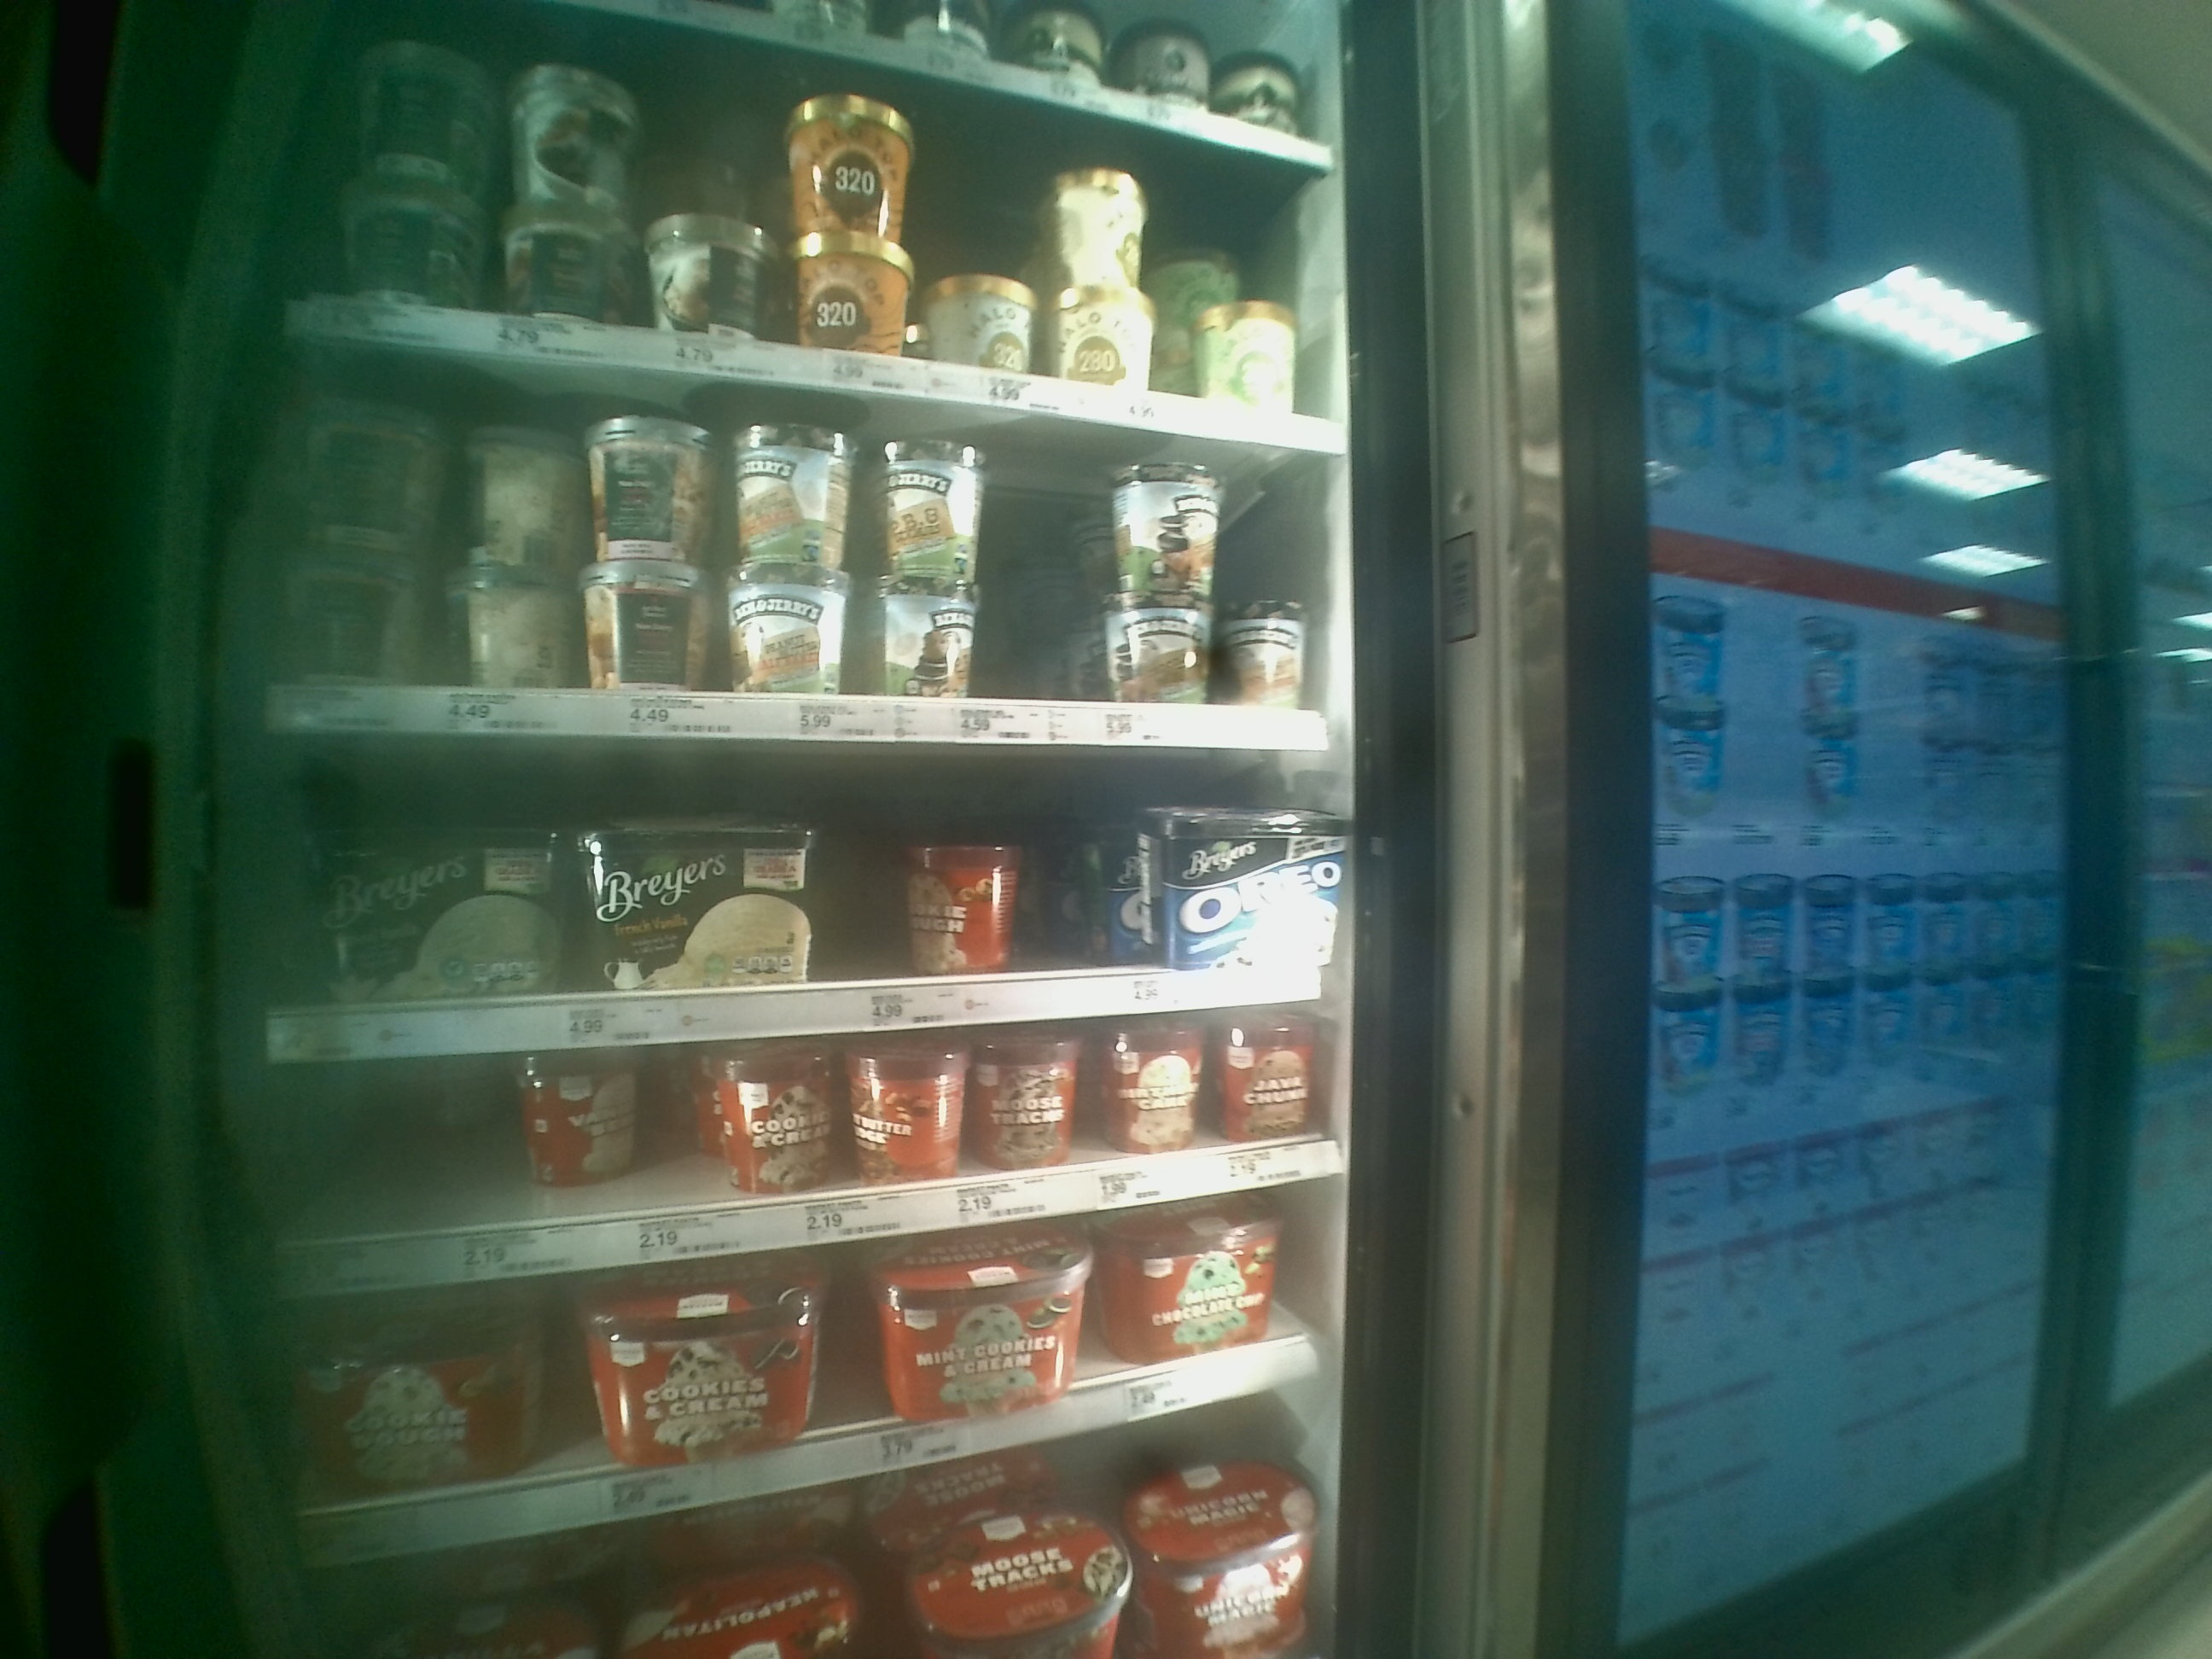ice-cream-shelf: (273, 375, 1345, 753), (251, 739, 1359, 1039)
